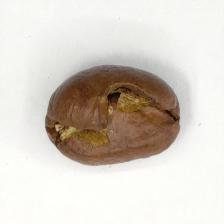NG: (52, 83, 171, 155)
